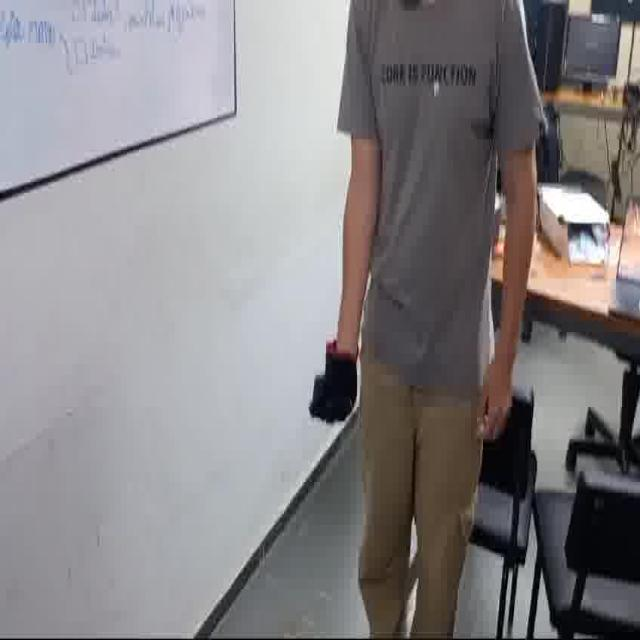Gloves: (307, 338, 360, 421)
